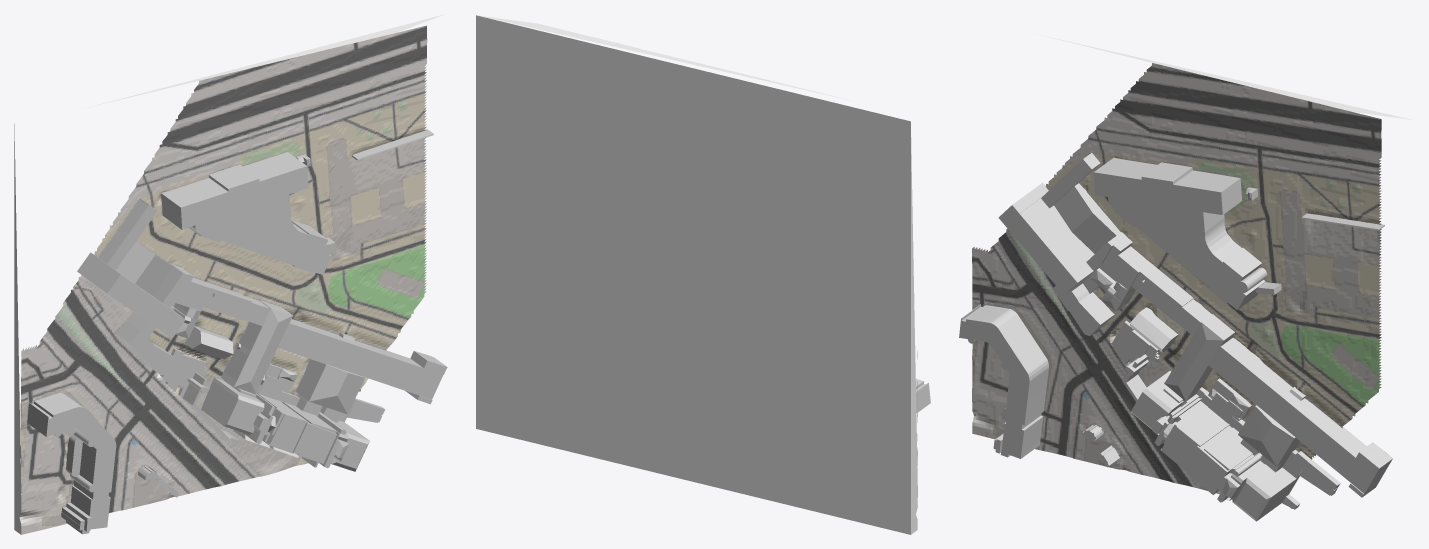
File: 78d11849-8e8b-4ade-8508-d72f65253cfd.glb
The picture shows the model from 3 angles, left to right: view 1: azimuth 30°, elevation 25°; view 2: azimuth 150°, elevation 25°; view 3: azimuth 330°, elevation 25°; orthographic projection.
Parts seen in each view (by area): view 1: terrain, buildings; view 2: terrain; view 3: terrain, buildings.
Boxes of the visible parts, <box> form: terrain: <box>14,14,444,534</box>; buildings: <box>27,129,447,534</box>; terrain: <box>476,15,917,534</box>; terrain: <box>972,34,1412,494</box>; buildings: <box>959,153,1392,521</box>.
Bounding box in the file's own units: 330 × 300 × 53.34.
Materials: 3 (1 with a texture image).
